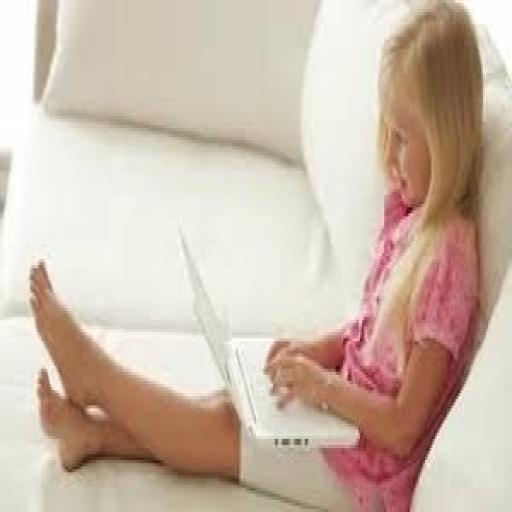using_laptop: (174, 216, 360, 448)
